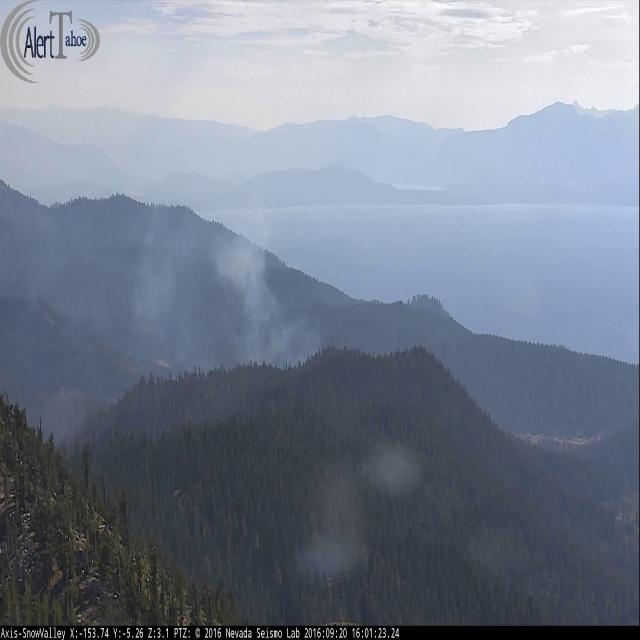smoke: (0, 190, 327, 450)
